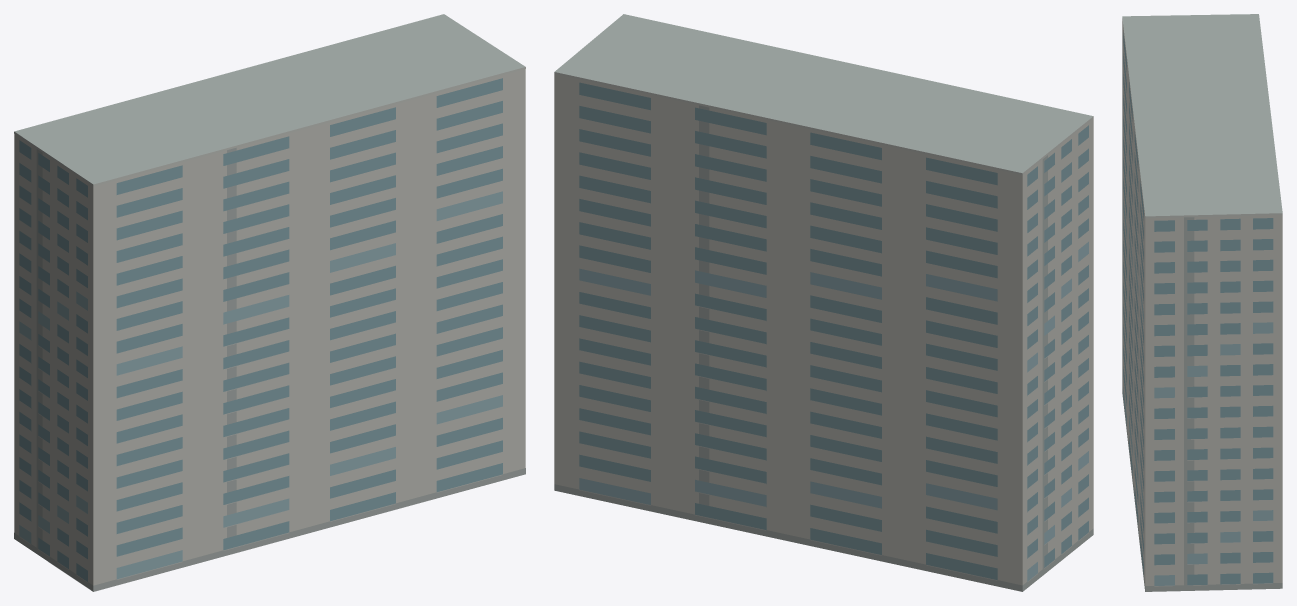
File: residential-5ba477e6-7a39-43dd-bc72-569d7623f236.glb
3 views of the same model, side by side, from view 1: azimuth 30°, elevation 25°; view 2: azimuth 150°, elevation 25°; view 3: azimuth 270°, elevation 25° (orthographic). The views are drawn at different scales.
Visible parts, largest first — view 1: residential-5ba477e6-7a39-43dd-bc72-569d7623f236.tmp; view 2: residential-5ba477e6-7a39-43dd-bc72-569d7623f236.tmp; view 3: residential-5ba477e6-7a39-43dd-bc72-569d7623f236.tmp.
Boxes of the visible parts, bbox=[...] form: residential-5ba477e6-7a39-43dd-bc72-569d7623f236.tmp: bbox=[14, 14, 525, 591]; residential-5ba477e6-7a39-43dd-bc72-569d7623f236.tmp: bbox=[554, 14, 1093, 591]; residential-5ba477e6-7a39-43dd-bc72-569d7623f236.tmp: bbox=[1122, 14, 1282, 591].
Size of the model in its own units: 55.48 by 48 by 18.6.
